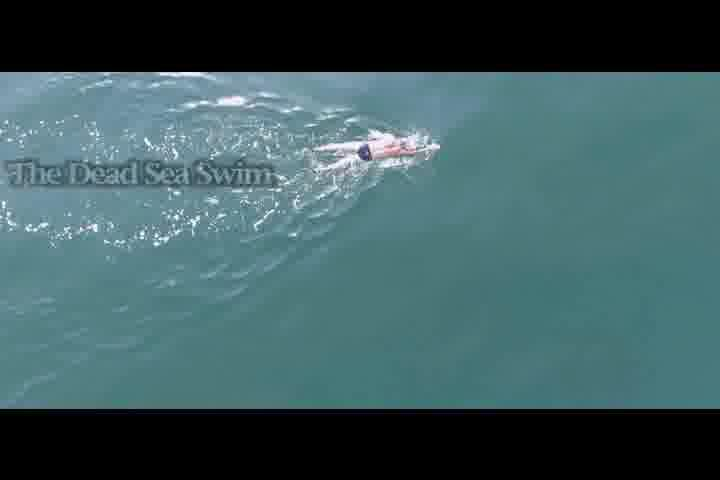human: (308, 138, 444, 175)
